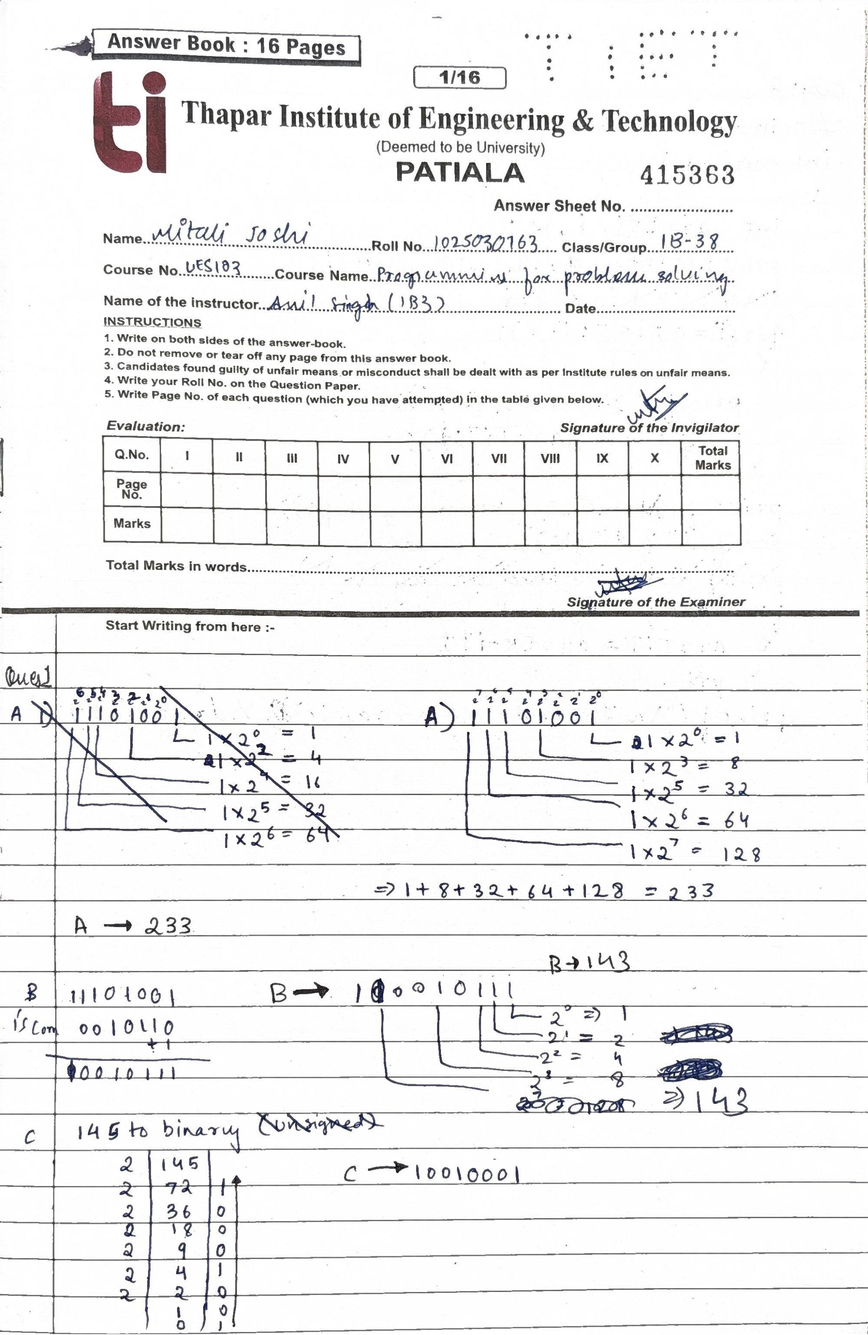cuttings: (29, 682, 344, 852), (254, 1109, 388, 1139), (514, 1095, 637, 1117), (659, 1022, 736, 1047), (654, 1057, 725, 1084), (370, 977, 385, 1004), (630, 734, 646, 753)
